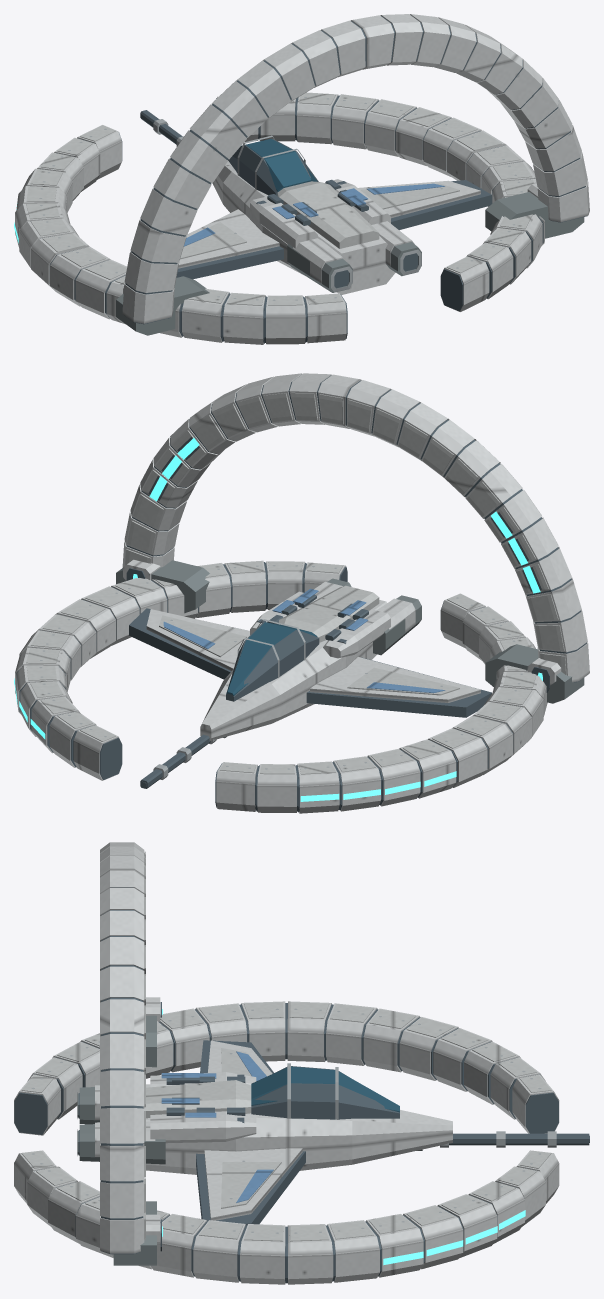
File: halo.gltf
3 views of the same model, one above another, from view 1: azimuth 30°, elevation 25°; view 2: azimuth 150°, elevation 25°; view 3: azimuth 270°, elevation 25° (orthographic). The views are drawn at different scales.
Visible parts, largest first — view 1: halo; view 2: halo; view 3: halo.
Part boxes in pixels (x1=…): halo: x1=14, y1=14, x2=589, y2=344; halo: x1=14, y1=373, x2=589, y2=813; halo: x1=14, y1=842, x2=589, y2=1284.
Bounding box in the file's own units: 11.7 × 6.44 × 11.42.
Materials: 8 (3 with a texture image).
